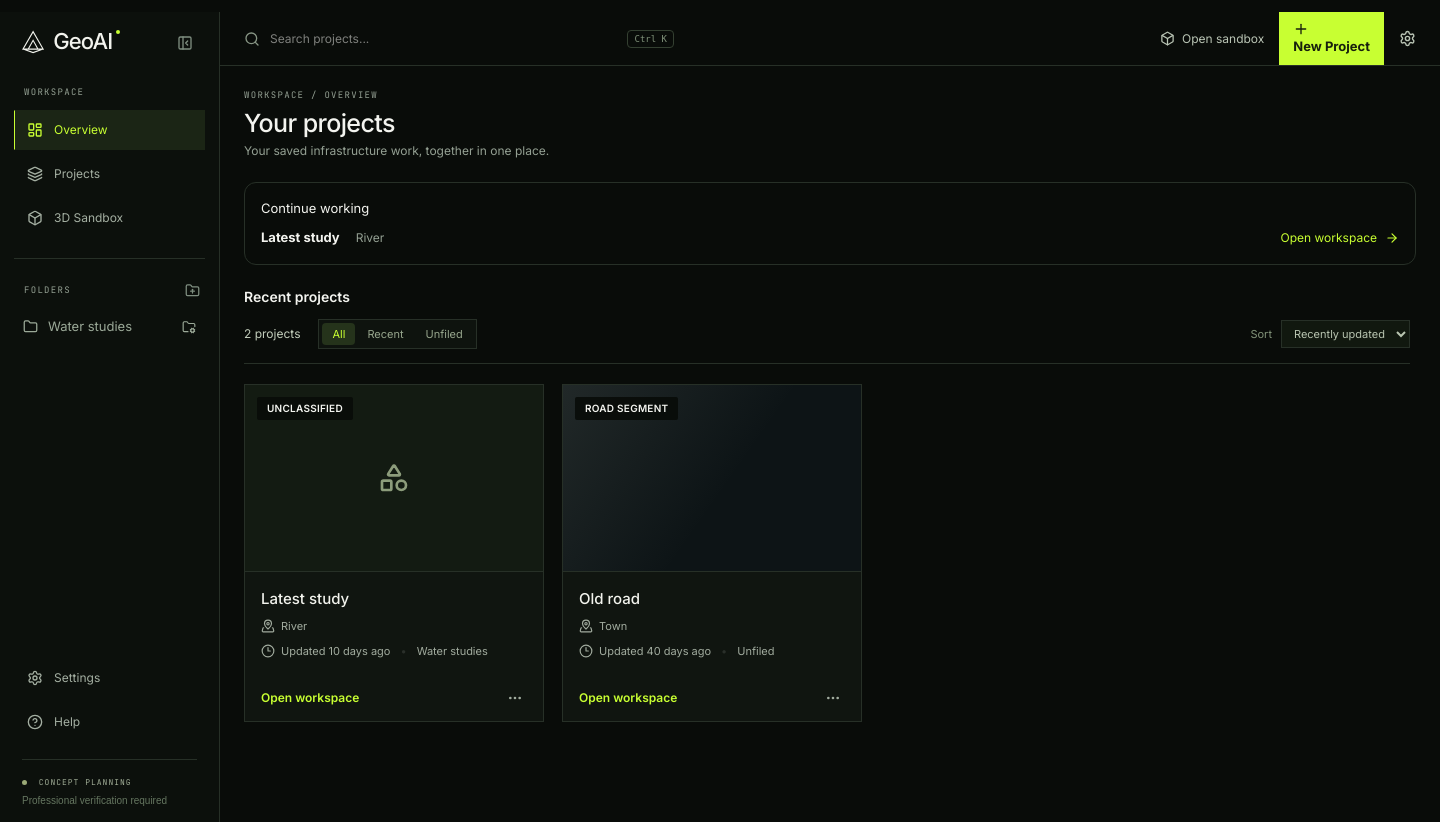
Test: compact project dashboard › preserves project search and folder filtering
The width and height of the screenshot is (1440, 822).
Expected: the button named "Project options for Old road" is shown, [821,686,845,710]
Click the button "Water studies" at [92, 327], box [14,308,170,346]
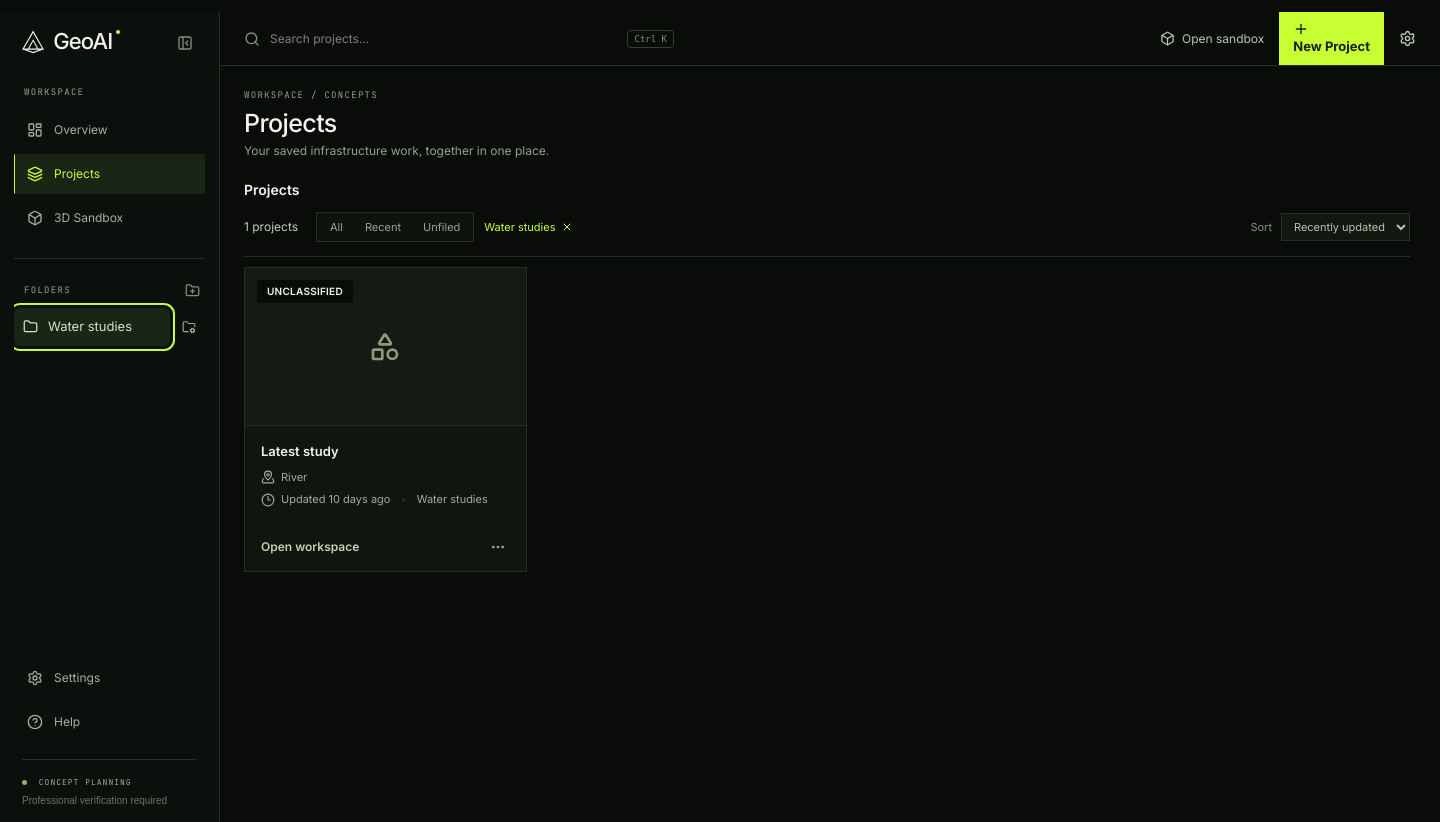
Expected: the button named "Project options for Latest study" is shown, [486,535,510,559]
Type "missing-project" into the search field named "Search projects" at [444, 38], box [270,21,618,56]
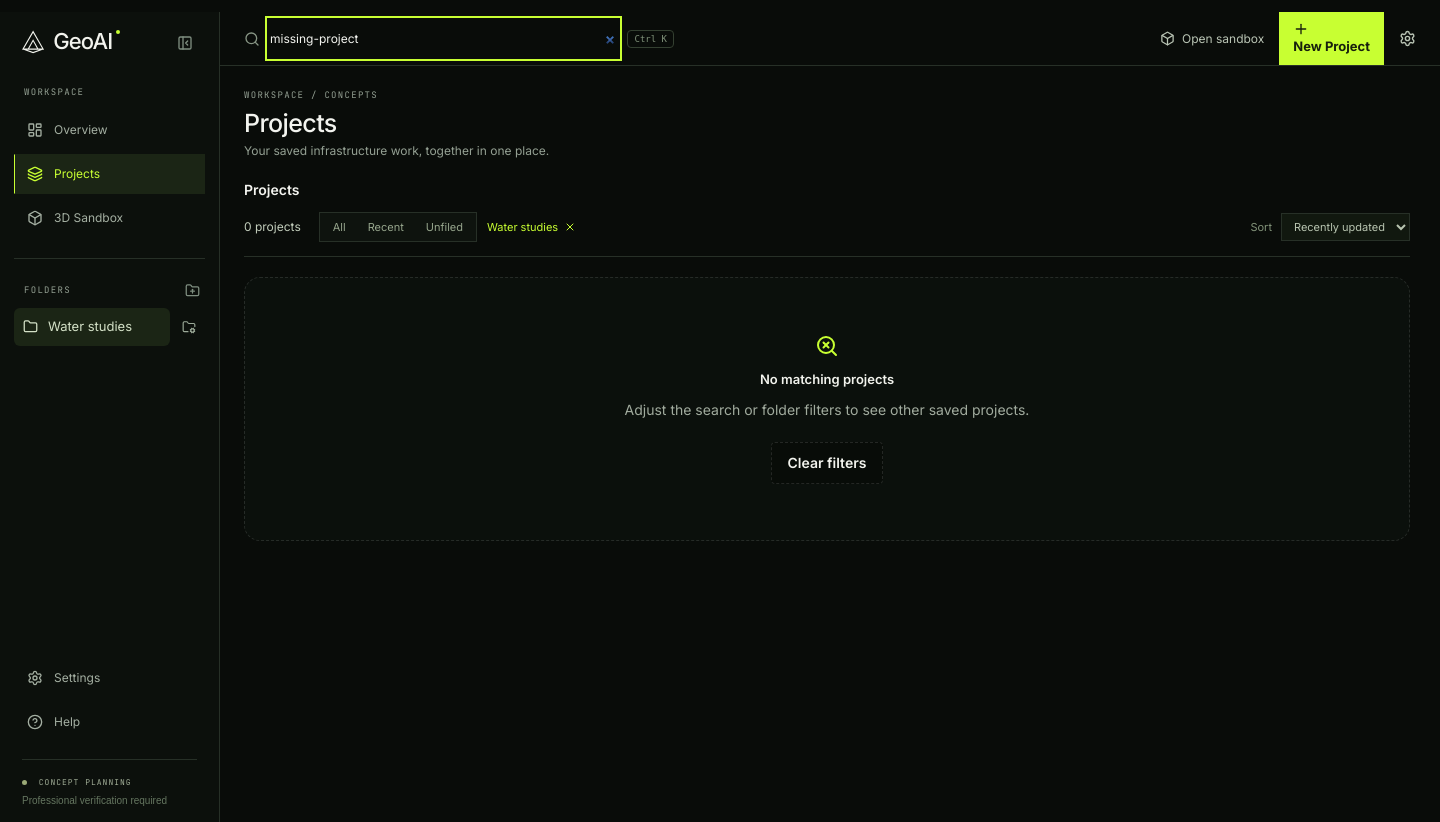
Expected: the heading "No matching projects" is shown, [760,371,894,387]
Click the button "Overview" at [110, 130], box [14,110,205,150]
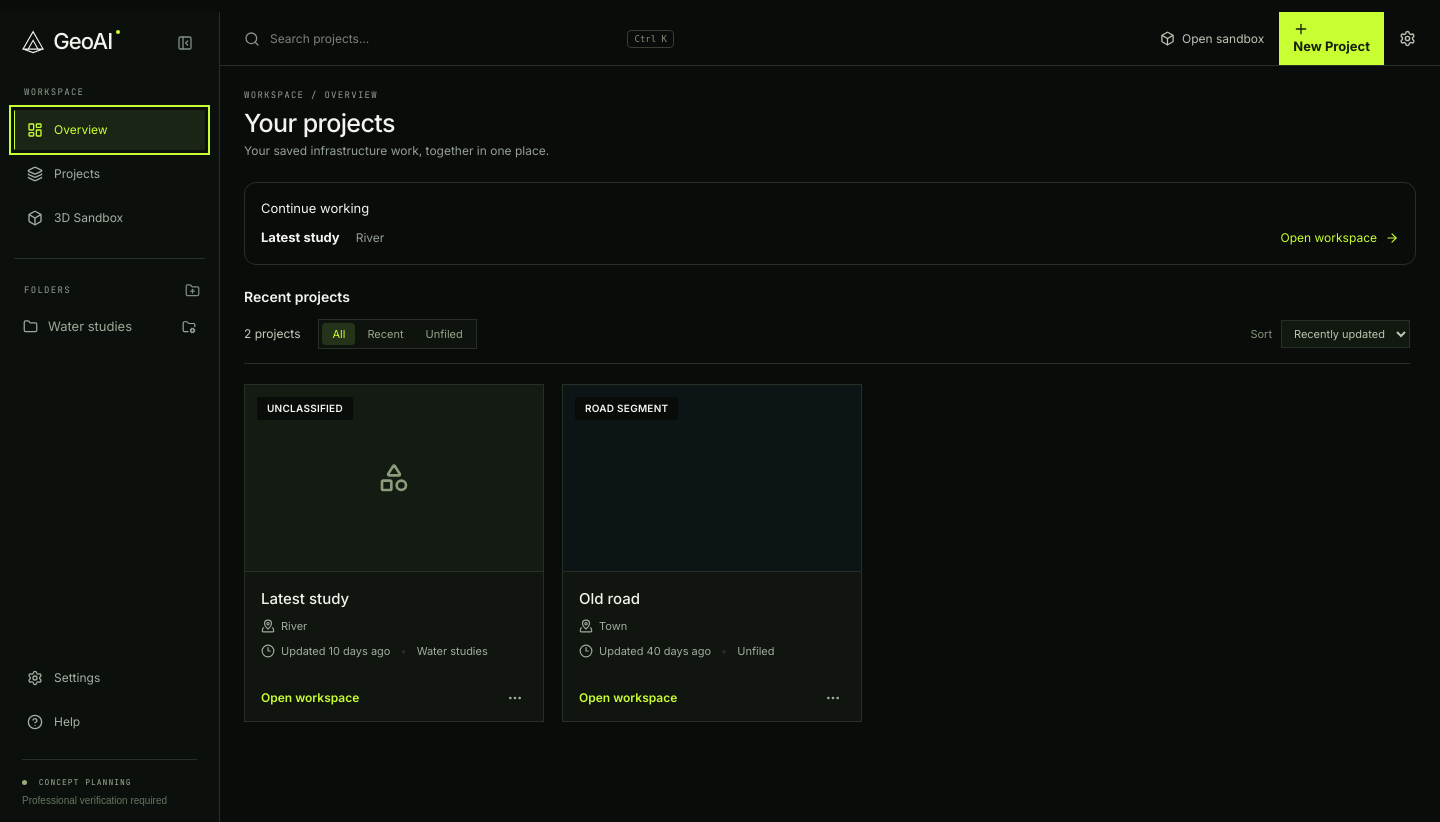
Expected: the search field named "Search projects" is empty, [270,21,618,56]
Expected: the button named "Project options for Old road" is shown, [821,686,845,710]
Expected: the button named "Project options for Latest study" is shown, [503,686,527,710]
